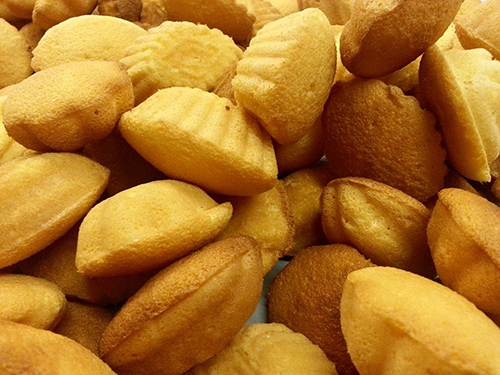kanomkai: (82, 231, 277, 373), (118, 73, 296, 203), (67, 171, 241, 287), (220, 2, 349, 154), (324, 68, 457, 213), (1, 50, 148, 165)
